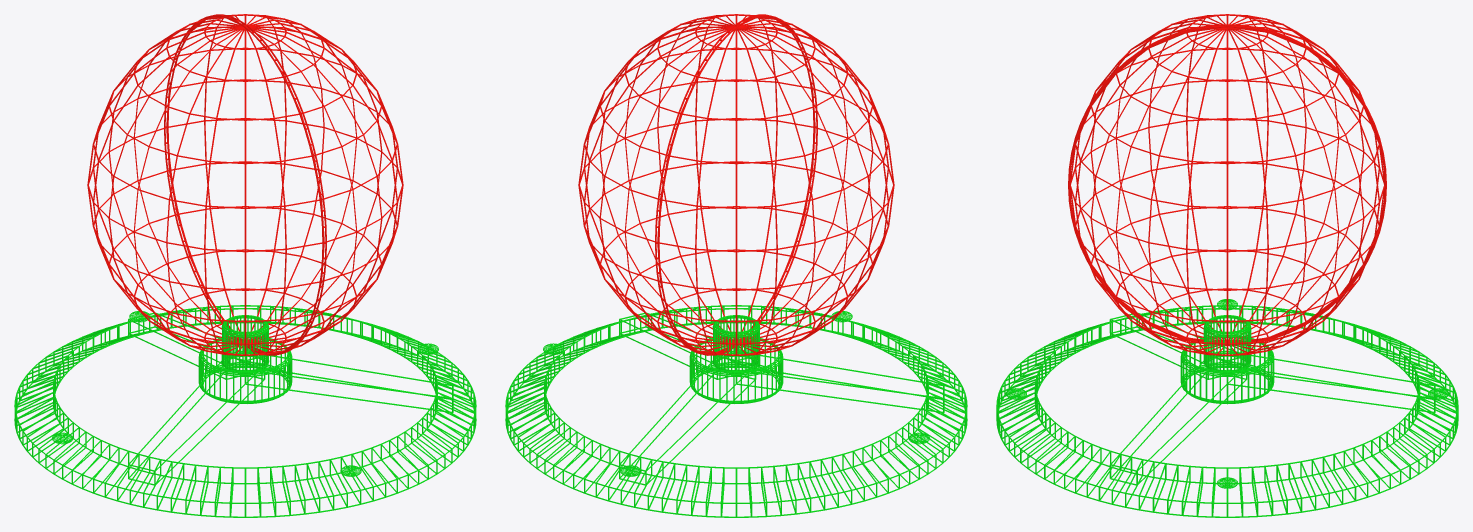
File: gravity-nullifier-highlight-central-gravitic-reactor.glb
The picture shows the model from 3 angles, left to right: view 1: azimuth 30°, elevation 25°; view 2: azimuth 150°, elevation 25°; view 3: azimuth 270°, elevation 25°; orthographic projection.
Visible parts, largest first — view 1: central-gravitic-reactor technical wire, fixed-shaped-base technical wire, chassis technical wire, cardinal-orientation-sensors technical wire; view 2: central-gravitic-reactor technical wire, fixed-shaped-base technical wire, chassis technical wire, cardinal-orientation-sensors technical wire; view 3: central-gravitic-reactor technical wire, fixed-shaped-base technical wire, chassis technical wire, cardinal-orientation-sensors technical wire.
Boxes of the visible parts, x1=… form: central-gravitic-reactor technical wire: x1=87, y1=14, x2=403, y2=355; fixed-shaped-base technical wire: x1=14, y1=305, x2=476, y2=517; chassis technical wire: x1=221, y1=315, x2=269, y2=370; cardinal-orientation-sensors technical wire: x1=52, y1=311, x2=438, y2=476; central-gravitic-reactor technical wire: x1=578, y1=14, x2=894, y2=355; fixed-shaped-base technical wire: x1=505, y1=305, x2=967, y2=517; chassis technical wire: x1=712, y1=315, x2=760, y2=370; cardinal-orientation-sensors technical wire: x1=543, y1=311, x2=929, y2=476; central-gravitic-reactor technical wire: x1=1068, y1=14, x2=1386, y2=355; fixed-shaped-base technical wire: x1=996, y1=305, x2=1458, y2=517; chassis technical wire: x1=1203, y1=315, x2=1251, y2=370; cardinal-orientation-sensors technical wire: x1=1005, y1=299, x2=1449, y2=488.
Bounding box in the file's own units: 2.41 × 2.27 × 2.41.
